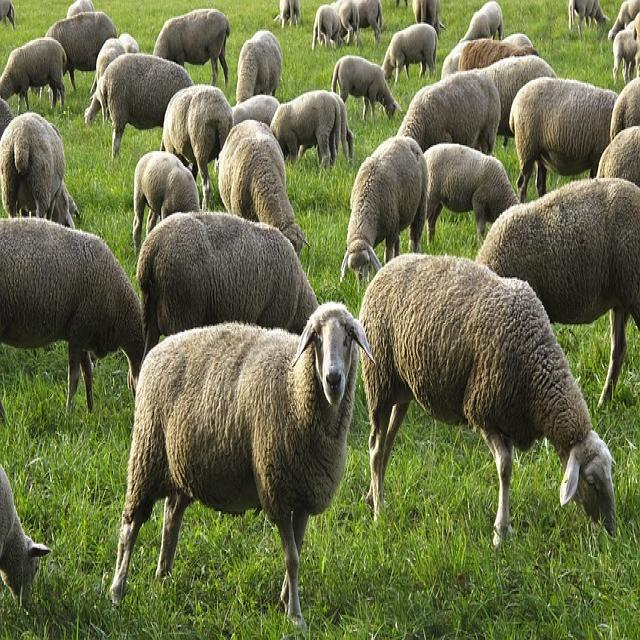goat: (109, 304, 369, 625), (359, 253, 618, 550), (475, 176, 640, 403), (0, 218, 148, 406), (135, 212, 319, 354), (509, 77, 619, 203), (214, 120, 306, 253), (341, 135, 427, 273), (84, 53, 193, 157), (0, 111, 81, 230), (396, 73, 502, 156), (132, 151, 201, 256), (270, 90, 353, 167), (45, 0, 122, 81), (0, 36, 71, 120), (330, 55, 401, 124), (230, 30, 284, 120), (152, 7, 230, 68)
